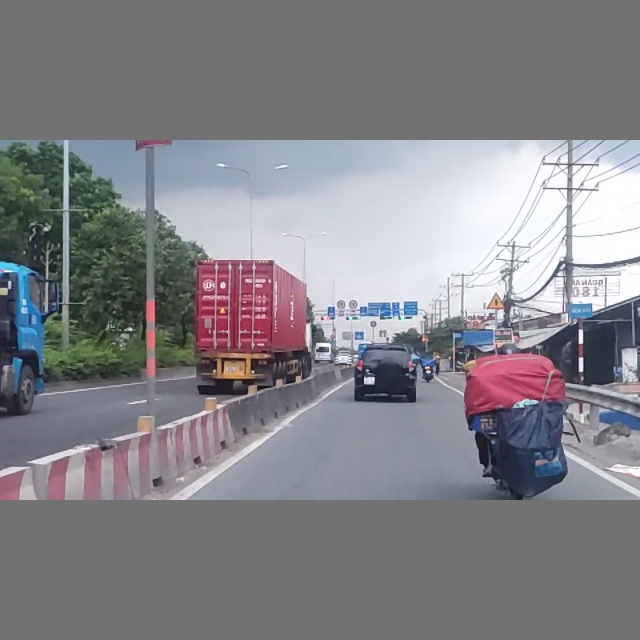W.207: (485, 292, 506, 310)
